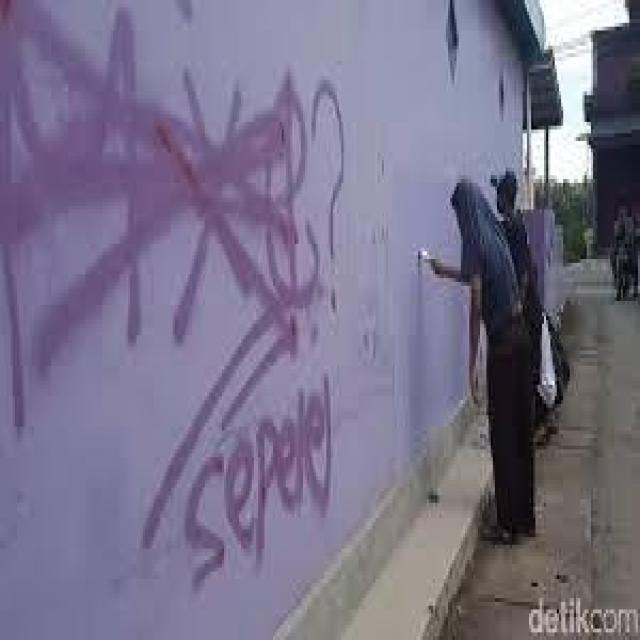nonspitting: (0, 3, 347, 590)
